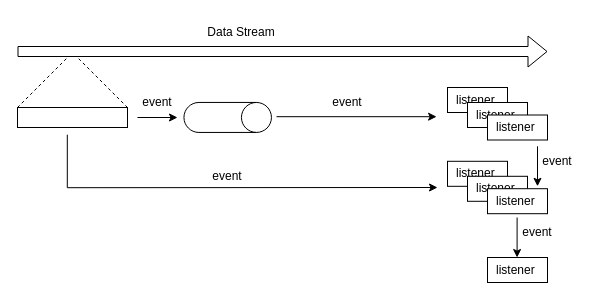
Some shapes in this 605 by 300 pixel diagram are drawn without their labels. Each missing label, with the centre of its shape:
"new data point" goes at [72,117].
"Pipeline" goes at [227,117].
